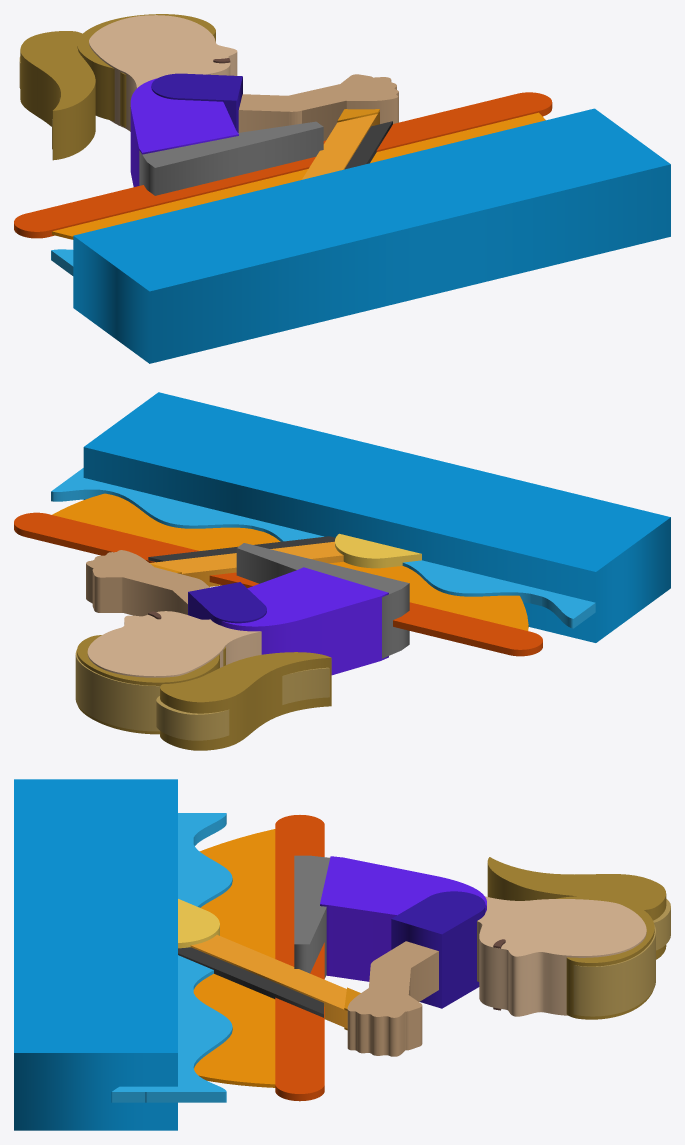
The model's file is emoji_u1f6a3_1f3fc_200d_2640.glb.
3 views of the same model, one above another, from view 1: azimuth 30°, elevation 25°; view 2: azimuth 150°, elevation 25°; view 3: azimuth 270°, elevation 25° (orthographic). The views are drawn at different scales.
Parts seen in each view (by area): view 1: emoji_u1f6a3_1f3fc_200d_2640; view 2: emoji_u1f6a3_1f3fc_200d_2640; view 3: emoji_u1f6a3_1f3fc_200d_2640.
Boxes of the visible parts, x1=… form: emoji_u1f6a3_1f3fc_200d_2640: x1=14, y1=14, x2=670, y2=363; emoji_u1f6a3_1f3fc_200d_2640: x1=14, y1=392, x2=670, y2=750; emoji_u1f6a3_1f3fc_200d_2640: x1=14, y1=779, x2=670, y2=1130.
Bounding box in the file's own units: 0.0339 × 0.0044 × 0.0336.
